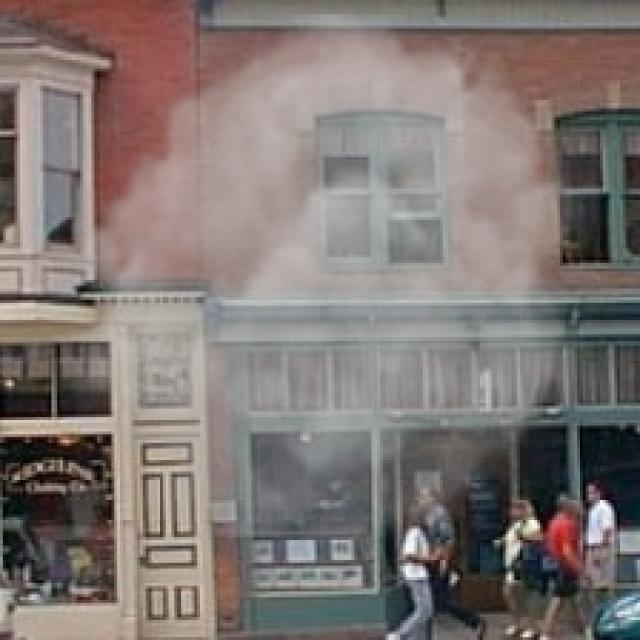Smoke: (51, 14, 606, 537)
